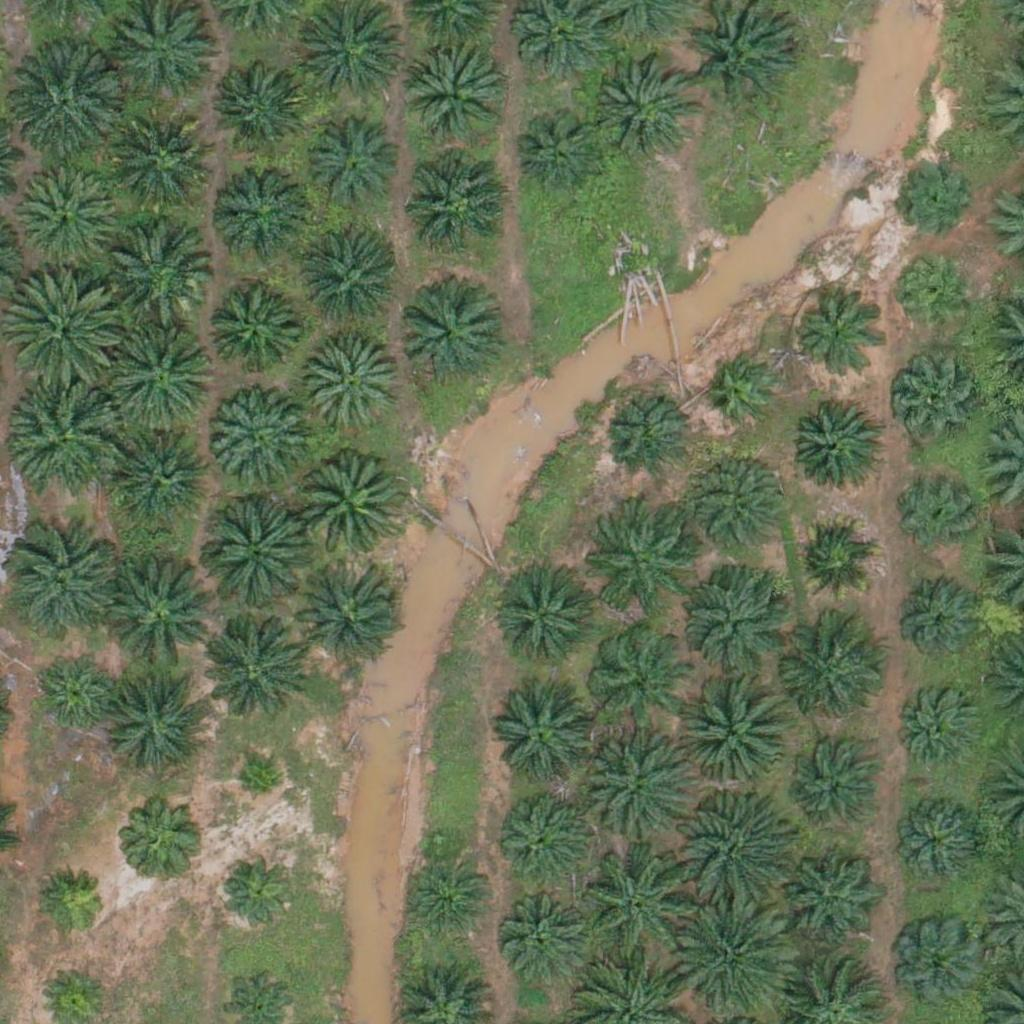Kelapa_Sawit: (680, 901, 793, 1014), (680, 790, 793, 903), (679, 672, 792, 785), (680, 557, 793, 670), (577, 732, 690, 845), (196, 497, 309, 610), (193, 614, 306, 727), (11, 378, 124, 491), (8, 526, 121, 639), (101, 214, 214, 327), (8, 47, 121, 160), (100, 556, 212, 670), (104, 315, 216, 429), (6, 267, 118, 381), (776, 616, 888, 729), (584, 846, 696, 959), (292, 449, 404, 562), (289, 557, 401, 670), (105, 666, 217, 779), (887, 914, 987, 1015), (779, 854, 879, 955), (581, 514, 681, 615), (587, 626, 687, 727), (493, 780, 593, 881), (493, 688, 593, 789), (499, 562, 599, 663), (396, 286, 496, 387), (303, 335, 403, 436), (201, 280, 301, 381), (208, 388, 308, 489), (590, 58, 690, 159), (399, 44, 499, 145), (17, 168, 117, 269), (888, 793, 988, 893), (688, 449, 788, 549), (496, 882, 596, 982), (301, 237, 401, 337), (115, 426, 215, 526), (405, 154, 505, 254), (301, 113, 401, 213), (213, 158, 313, 258), (210, 54, 310, 154), (116, 4, 216, 104), (108, 117, 208, 217), (32, 652, 120, 740), (890, 252, 978, 340), (894, 470, 982, 558), (895, 582, 983, 670), (895, 687, 983, 775), (603, 390, 691, 478), (117, 789, 205, 877), (892, 353, 979, 441), (794, 294, 881, 382), (790, 399, 877, 487), (215, 845, 302, 933), (790, 517, 877, 605), (787, 738, 874, 826), (402, 848, 489, 936), (892, 153, 979, 241), (516, 106, 603, 194), (706, 356, 781, 432), (37, 866, 112, 941), (234, 760, 284, 810)
